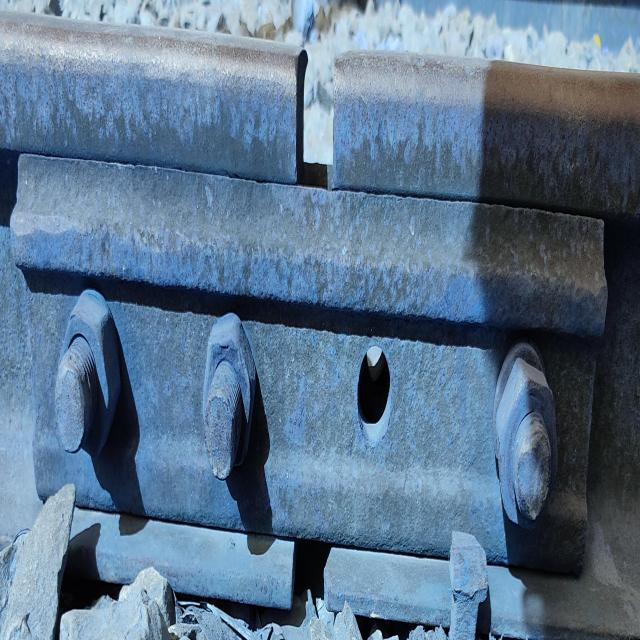Defective Joint: (7, 146, 609, 595)
